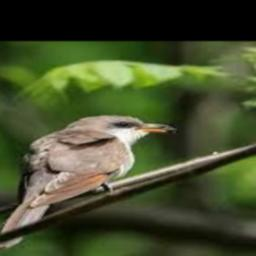Cuckoo: (0, 115, 174, 251)
